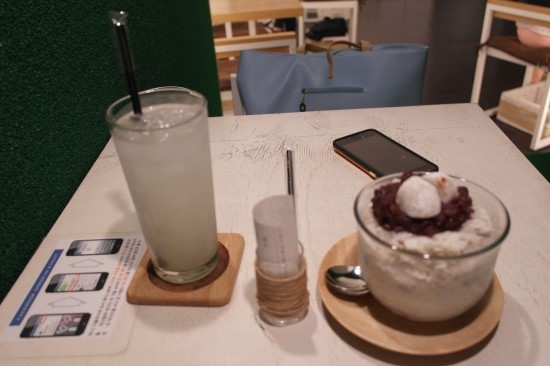glass of water: (98, 91, 228, 292)
